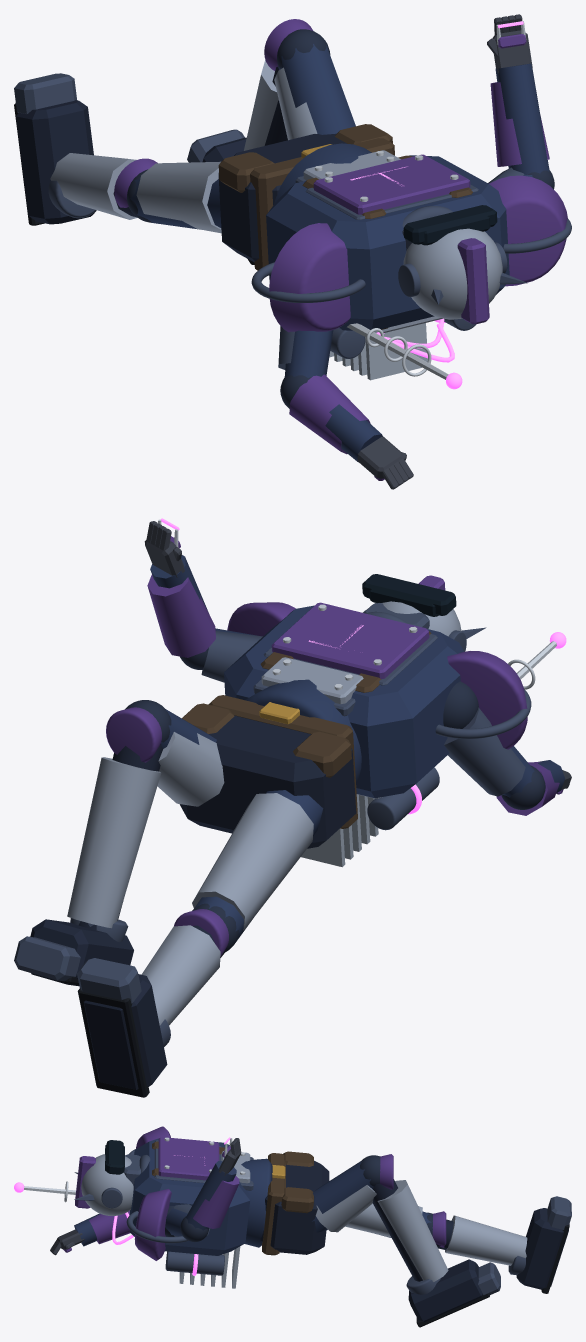
Rendered from hero_tempest_downed.glb.
3 renders of one model, top to bottom at view 1: azimuth 30°, elevation 25°; view 2: azimuth 150°, elevation 25°; view 3: azimuth 270°, elevation 25°, orthographic. The views are drawn at different scales.
Parts seen in each view (by area): view 1: hero_tempest_downed_chest, hero_tempest_downed_pauldron-1, hero_tempest_downed_boot_l, hero_tempest_downed_chest_plate_face, hero_tempest_downed_pauldron1, hero_tempest_downed_helmet, hero_tempest_downed_thigh_plate_l, hero_tempest_downed_pelvis, hero_tempest_downed_thigh_r, hero_tempest_downed_forearm_r, hero_tempest_downed_greave_l, hero_tempest_downed_bracer_l (+31 smaller); view 2: hero_tempest_downed_chest, hero_tempest_downed_pelvis, hero_tempest_downed_greave_r, hero_tempest_downed_thigh_plate_l, hero_tempest_downed_chest_plate_face, hero_tempest_downed_boot_l, hero_tempest_downed_greave_l, hero_tempest_downed_pauldron-1, hero_tempest_downed_thigh_plate_r, hero_tempest_downed_bracer_r, hero_tempest_downed_bicep_plate_l, hero_tempest_downed_boot_r (+25 smaller); view 3: hero_tempest_downed_chest, hero_tempest_downed_pelvis, hero_tempest_downed_greave_r, hero_tempest_downed_greave_l, hero_tempest_downed_boot_r, hero_tempest_downed_boot_l, hero_tempest_downed_chest_plate_face, hero_tempest_downed_helmet, hero_tempest_downed_pauldron1, hero_tempest_downed_abdomen, hero_tempest_downed_thigh_r, hero_tempest_downed_thigh_plate_r (+31 smaller).
Boxes of the visible parts, x1,y1,x2,y2 form: hero_tempest_downed_chest: [266, 155, 509, 330]; hero_tempest_downed_pauldron-1: [269, 223, 350, 332]; hero_tempest_downed_boot_l: [15, 100, 96, 224]; hero_tempest_downed_chest_plate_face: [313, 154, 470, 214]; hero_tempest_downed_pauldron1: [489, 175, 567, 286]; hero_tempest_downed_helmet: [403, 228, 502, 319]; hero_tempest_downed_thigh_plate_l: [136, 161, 221, 233]; hero_tempest_downed_pelvis: [218, 133, 347, 262]; hero_tempest_downed_thigh_r: [277, 44, 355, 134]; hero_tempest_downed_forearm_r: [495, 63, 549, 174]; hero_tempest_downed_greave_l: [50, 153, 137, 219]; hero_tempest_downed_bracer_l: [289, 374, 370, 454]; hero_tempest_downed_chest: [224, 605, 463, 798]; hero_tempest_downed_pelvis: [179, 715, 356, 848]; hero_tempest_downed_greave_r: [67, 757, 161, 928]; hero_tempest_downed_thigh_plate_l: [192, 793, 313, 930]; hero_tempest_downed_chest_plate_face: [271, 602, 429, 679]; hero_tempest_downed_boot_l: [83, 974, 167, 1089]; hero_tempest_downed_greave_l: [141, 925, 220, 1025]; hero_tempest_downed_pauldron-1: [447, 651, 527, 749]; hero_tempest_downed_thigh_plate_r: [157, 732, 224, 806]; hero_tempest_downed_bracer_r: [147, 575, 215, 657]; hero_tempest_downed_bicep_plate_l: [444, 707, 525, 796]; hero_tempest_downed_boot_r: [30, 919, 133, 986]; hero_tempest_downed_chest: [130, 1138, 250, 1255]; hero_tempest_downed_pelvis: [260, 1160, 329, 1254]; hero_tempest_downed_greave_r: [377, 1180, 448, 1281]; hero_tempest_downed_greave_l: [445, 1215, 527, 1265]; hero_tempest_downed_boot_r: [408, 1259, 482, 1322]; hero_tempest_downed_boot_l: [516, 1208, 568, 1289]; hero_tempest_downed_chest_plate_face: [158, 1137, 219, 1180]; hero_tempest_downed_helmet: [81, 1154, 133, 1215]; hero_tempest_downed_pauldron1: [134, 1188, 171, 1260]; hero_tempest_downed_abdomen: [241, 1158, 272, 1247]; hero_tempest_downed_thigh_r: [312, 1161, 373, 1232]; hero_tempest_downed_thigh_plate_r: [315, 1185, 376, 1232].
Bounding box in the file's own units: 0.8907 × 0.8845 × 2.12.
